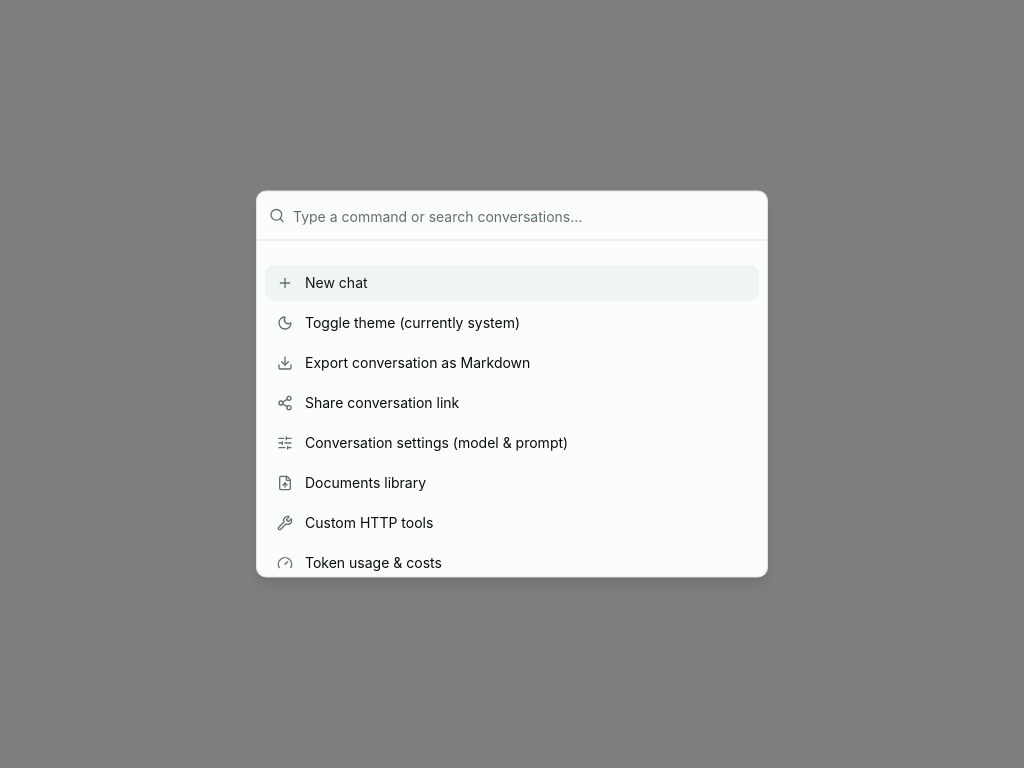
Test case: CommandPalette › filters items by search query
Type "landing" into the field with placeholder "Type a command or search conversations…". click: (524, 216)
box: [293,192,755,240]
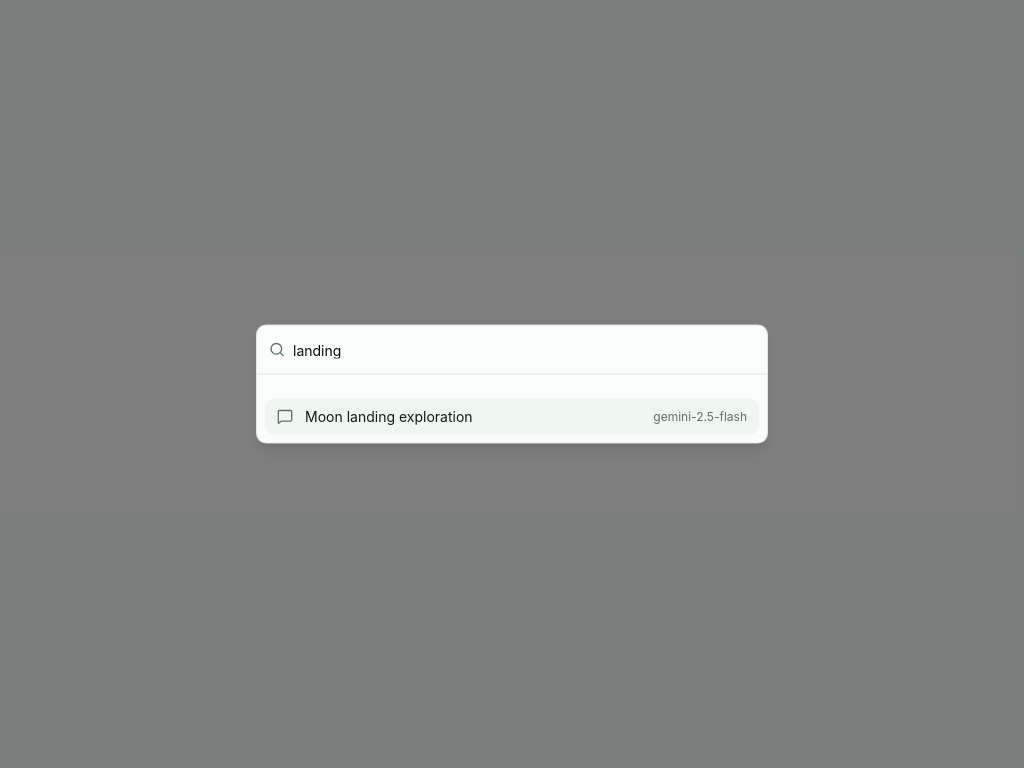
Expected: the text "Moon landing exploration" is shown, [305,408,472,424]
Expected: the button "New chat" is gone
